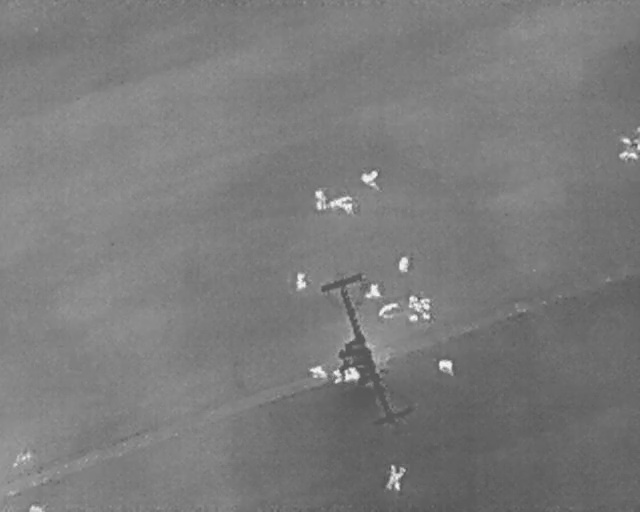Person: (375, 297, 403, 323), (409, 295, 431, 322), (620, 135, 639, 162), (388, 464, 406, 491), (329, 195, 354, 214), (361, 169, 379, 189), (313, 187, 327, 212), (438, 360, 454, 377), (342, 368, 360, 383), (366, 283, 381, 300), (310, 366, 327, 381), (295, 271, 307, 290), (397, 257, 410, 274), (29, 503, 43, 511)
